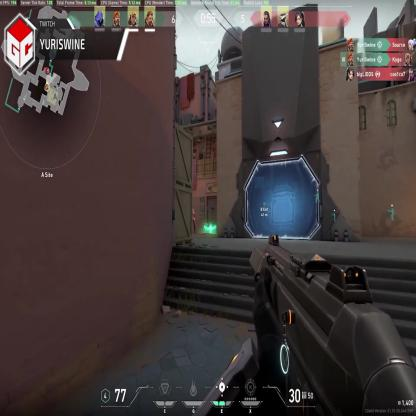enemy: (190, 206, 196, 234)
enemy_head: (190, 207, 194, 212)
